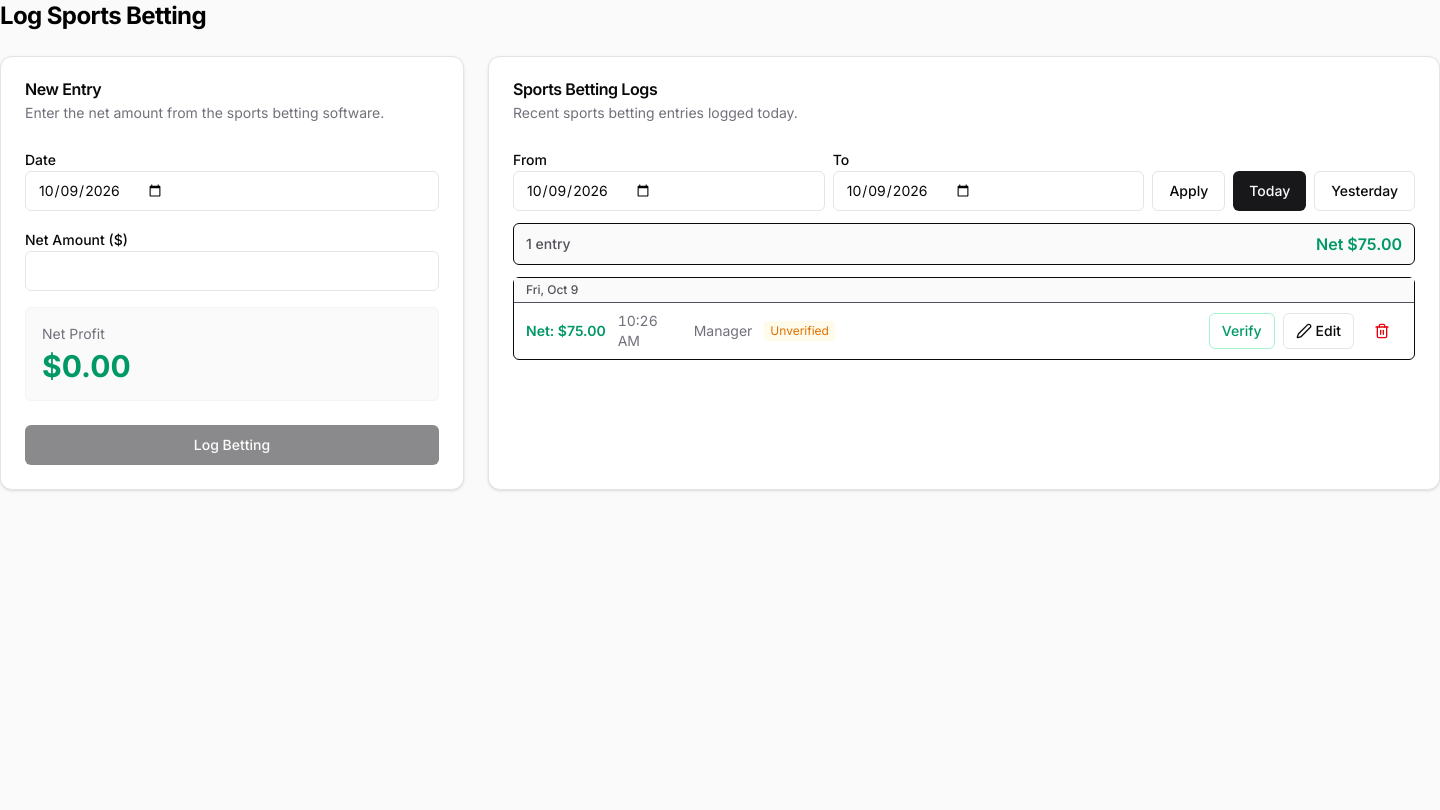
Test: SportsBetting Page › deletes a sports betting log via DELETE after reason is provided
The image size is (1440, 810).
Expected: the text "Net: $75.00" is shown, x1=526 y1=321 x2=606 y2=341
Click the button named "Delete sports betting log" at coordinates (1382, 331), box x1=1362 y1=313 x2=1402 y2=349
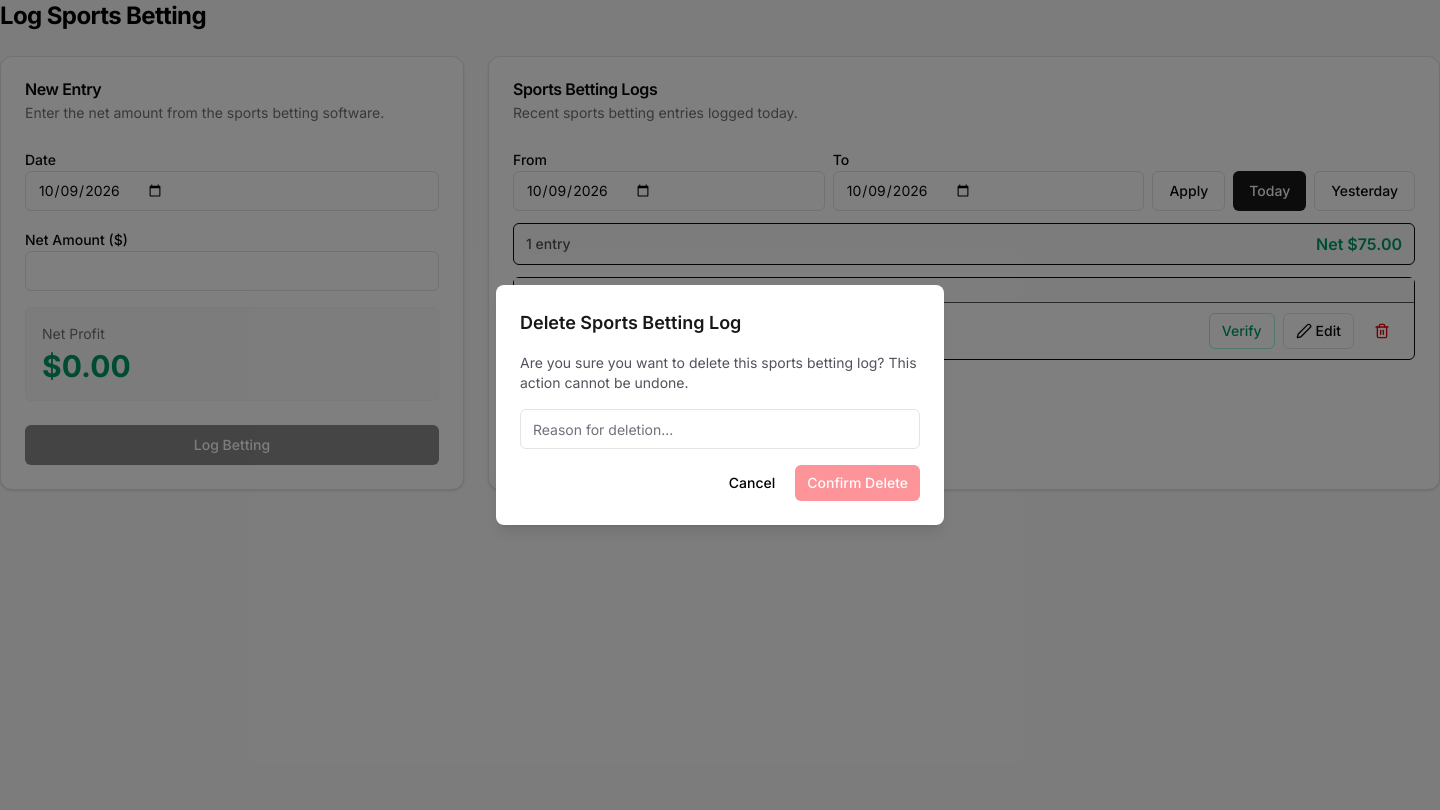
Expected: the heading "Delete Sports Betting Log" is shown, x1=520 y1=312 x2=741 y2=333
Type "Accidental double entry" into the field with placeholder "Reason for deletion..." at coordinates (720, 429), box x1=520 y1=409 x2=920 y2=449
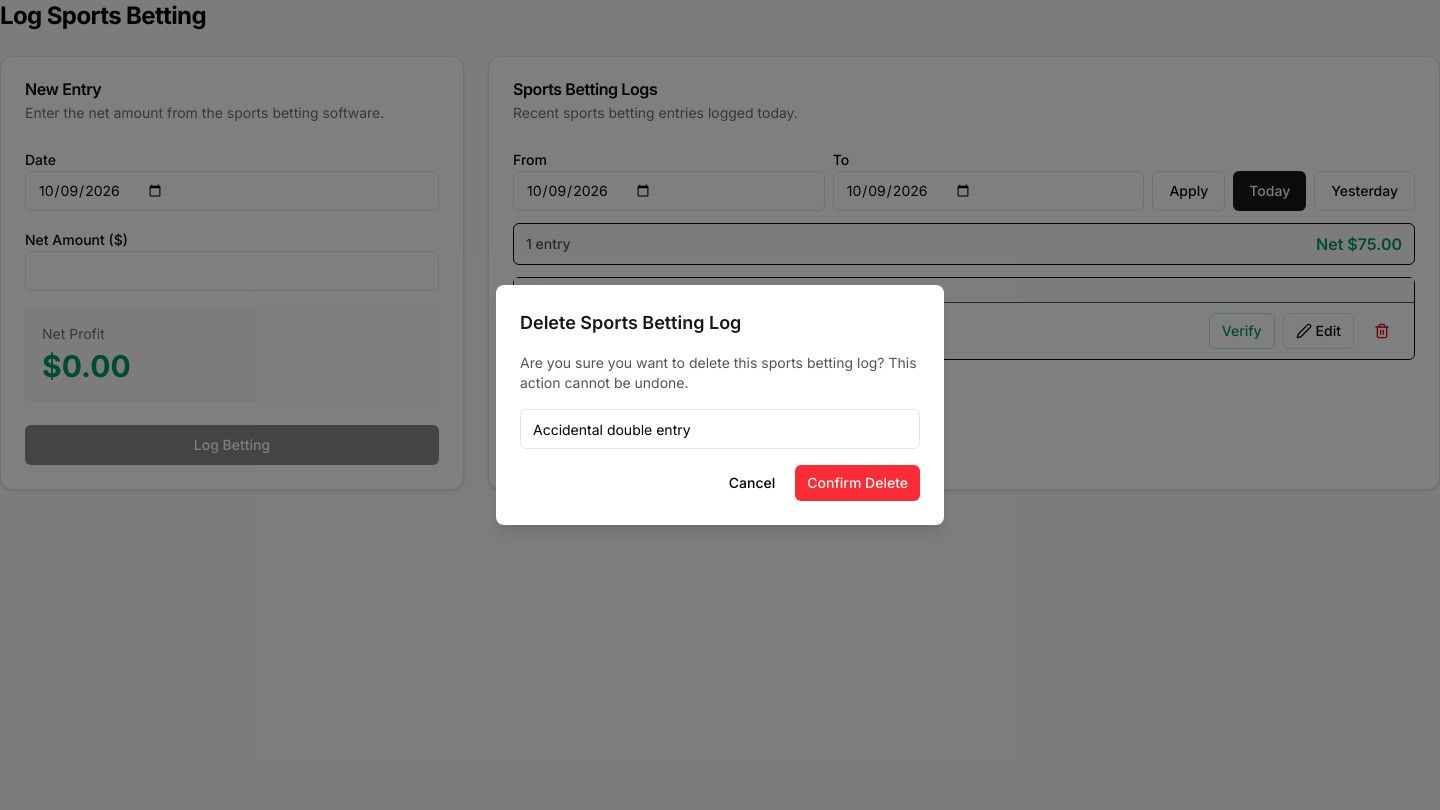
Click the button "Confirm Delete" at coordinates (858, 483), box x1=795 y1=465 x2=920 y2=501
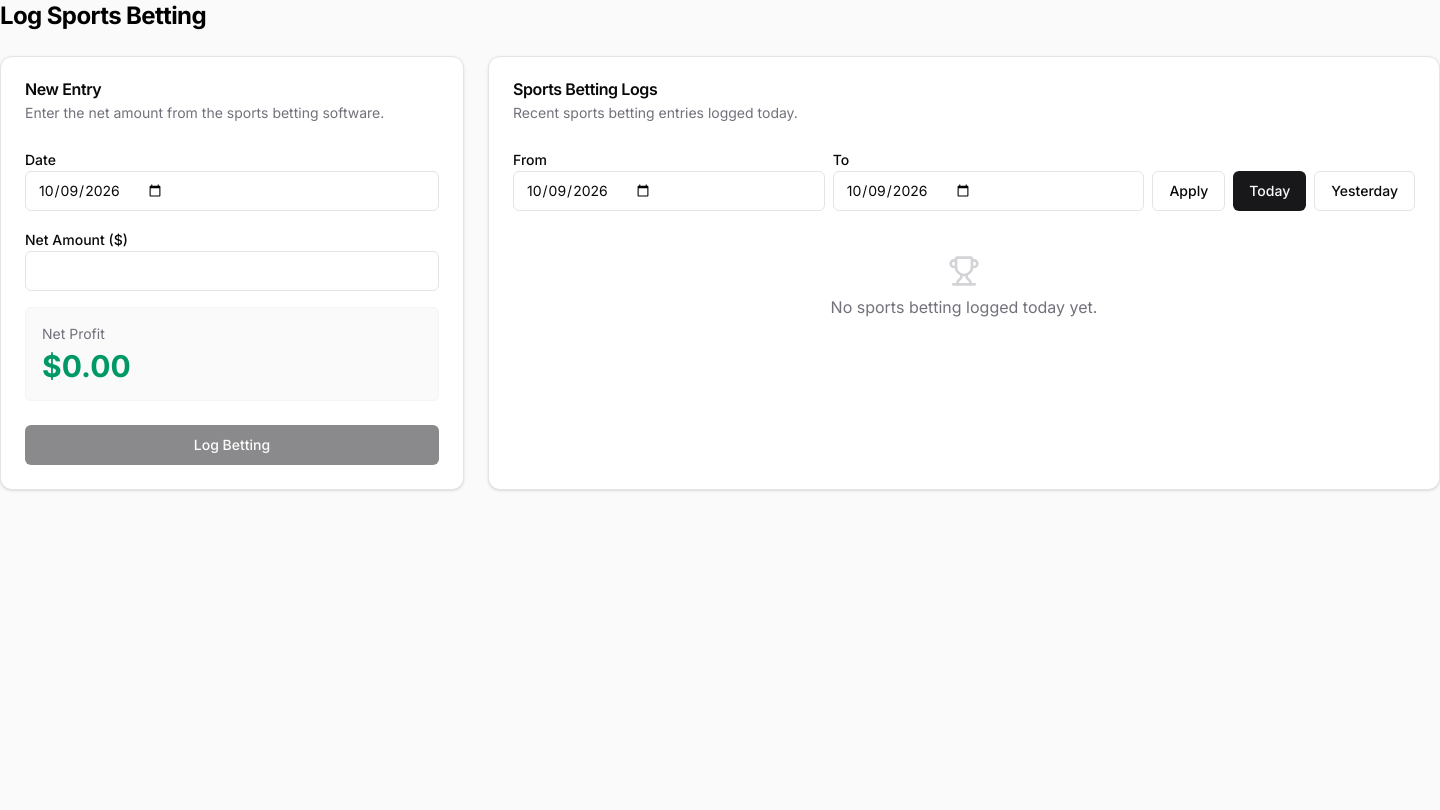
Expected: the text "Net: $75.00" is gone
